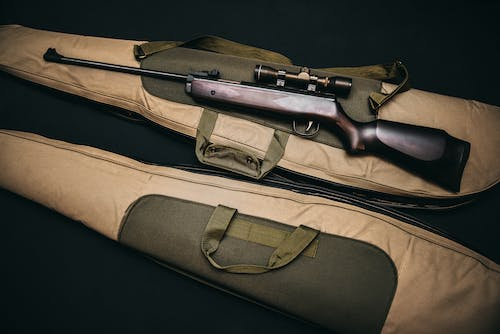gun: (40, 41, 471, 196)
